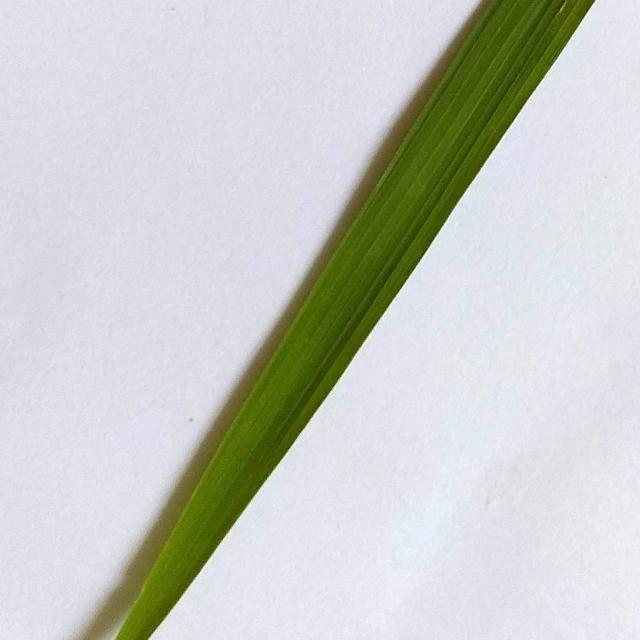healthy: (122, 0, 637, 640)
